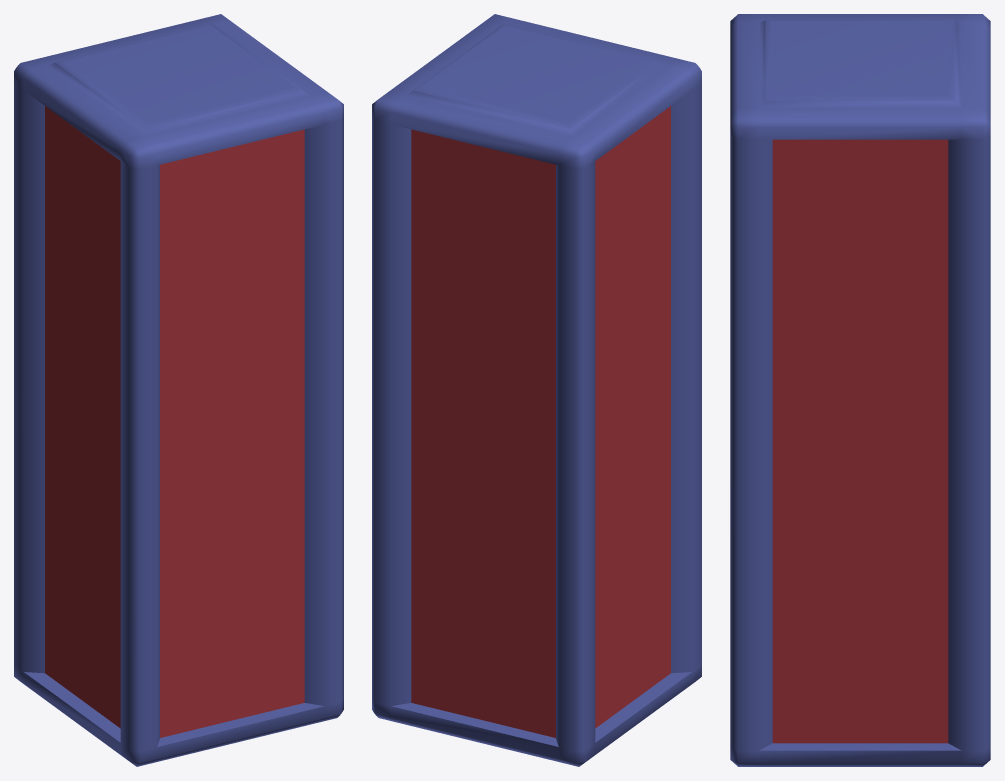
The model's file is SM_Lamp_02.fbx.
3 renders of one model, left to right at view 1: azimuth 30°, elevation 25°; view 2: azimuth 150°, elevation 25°; view 3: azimuth 270°, elevation 25°, orthographic. The views are drawn at different scales.
Parts seen in each view (by area): view 1: SM_Lamp_02; view 2: SM_Lamp_02; view 3: SM_Lamp_02.
Boxes of the visible parts, x1,y1,x2,y2 form: SM_Lamp_02: (14,14,343,766); SM_Lamp_02: (372,14,701,766); SM_Lamp_02: (730,14,990,766).
Bounding box in the file's own units: 36.13 × 102 × 36.27.
